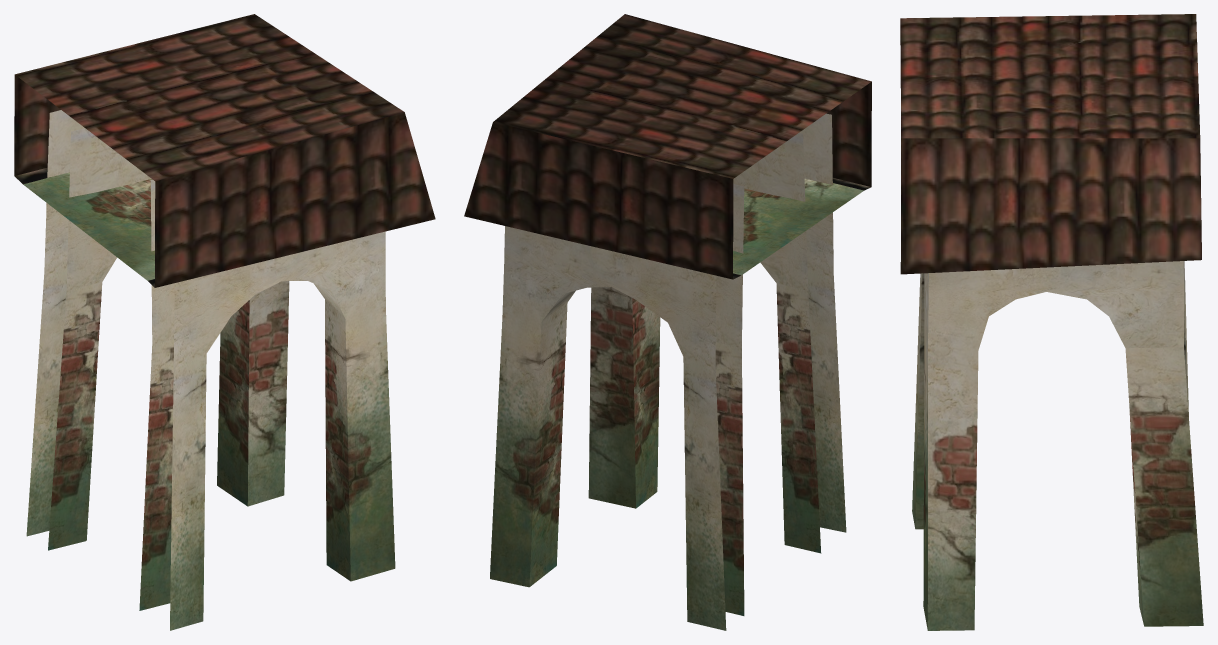
File: spanish_npc_attach_fullnostonearchR.fbx
3 renders of one model, left to right at view 1: azimuth 30°, elevation 25°; view 2: azimuth 150°, elevation 25°; view 3: azimuth 270°, elevation 25°, orthographic. The views are drawn at different scales.
Parts seen in each view (by area): view 1: walls, roof; view 2: walls, roof; view 3: roof, walls.
Boxes of the visible parts, bbox=[...] form: walls: bbox=[26, 110, 395, 630]; roof: bbox=[14, 14, 435, 287]; walls: bbox=[490, 113, 846, 630]; roof: bbox=[464, 14, 871, 279]; roof: bbox=[900, 14, 1201, 274]; walls: bbox=[912, 261, 1203, 630].
Bounding box in the file's own units: 1260 × 2001 × 1121.
1 material, 1 textured.
